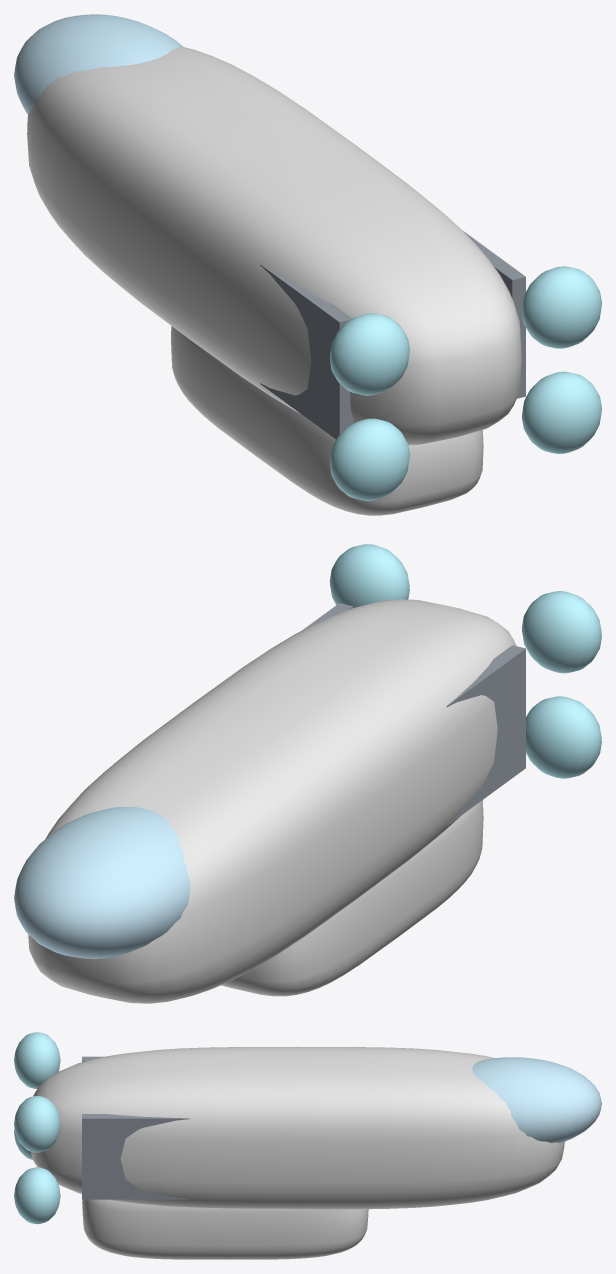
File: Flug_Frachter.fbx
3 renders of one model, top to bottom at view 1: azimuth 30°, elevation 25°; view 2: azimuth 150°, elevation 25°; view 3: azimuth 270°, elevation 25°, orthographic. The views are drawn at different scales.
Visible parts, largest first — view 1: Flug_Frachter; view 2: Flug_Frachter; view 3: Flug_Frachter.
Boxes of the visible parts, box(x1,y1,x2,y2) form: Flug_Frachter: box(14, 14, 601, 515); Flug_Frachter: box(14, 544, 601, 1003); Flug_Frachter: box(14, 1032, 601, 1259).
Bounding box in the file's own units: 1160 × 1110 × 3280.
